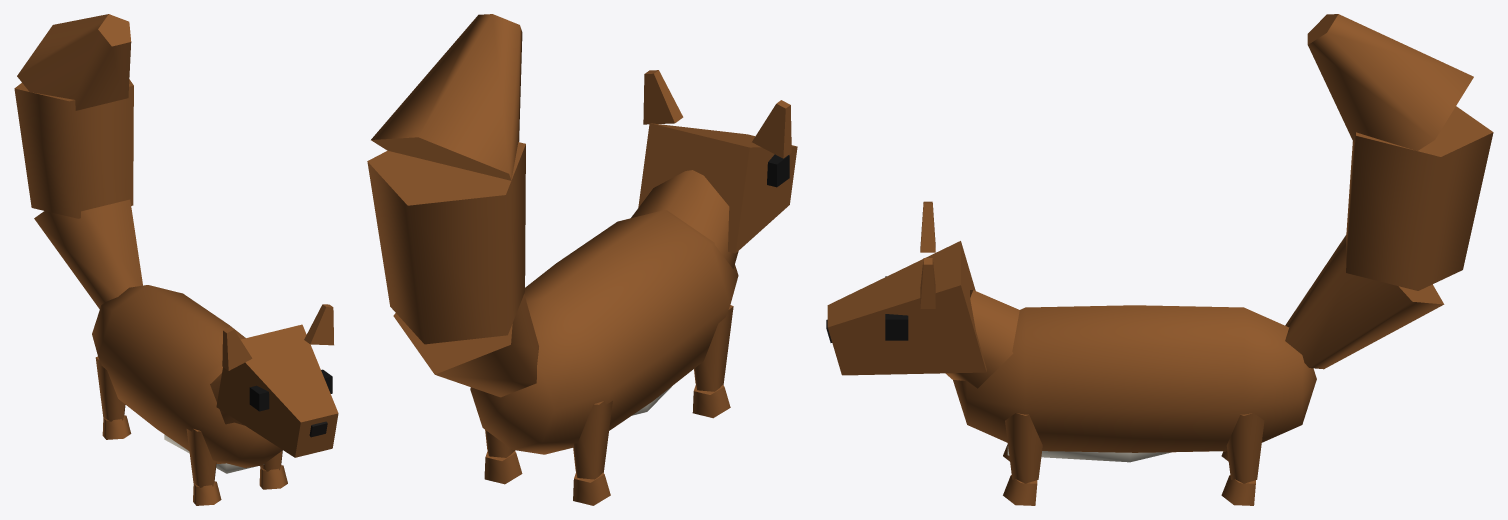
Rendered from tupai.glb.
3 renders of one model, left to right at view 1: azimuth 30°, elevation 25°; view 2: azimuth 150°, elevation 25°; view 3: azimuth 270°, elevation 25°, orthographic. The views are drawn at different scales.
Visible parts, largest first — view 1: tail, body, head, leg_fr, leg_rr, leg_fl; view 2: tail, body, head, leg_rr, leg_fr, leg_rl; view 3: body, tail, head, leg_rl, leg_fl.
Part boxes in pixels (x1,y1,x2,y2): tail: (14, 14, 142, 309); body: (92, 285, 282, 473); head: (216, 304, 338, 457); leg_fr: (186, 428, 221, 505); leg_rr: (95, 356, 131, 439); leg_fl: (259, 450, 287, 489); tail: (367, 14, 538, 397); body: (470, 170, 738, 454); head: (638, 70, 797, 253); leg_rr: (573, 401, 612, 505); leg_fr: (692, 305, 733, 418); leg_rl: (484, 430, 522, 484); body: (945, 290, 1316, 462); tail: (1285, 14, 1493, 369); head: (826, 201, 986, 375); leg_rl: (1221, 413, 1264, 505); leg_fl: (1003, 413, 1042, 505).
Size of the model in its own units: 0.0777 by 0.2691 by 0.3479.
1 material, 1 textured.
